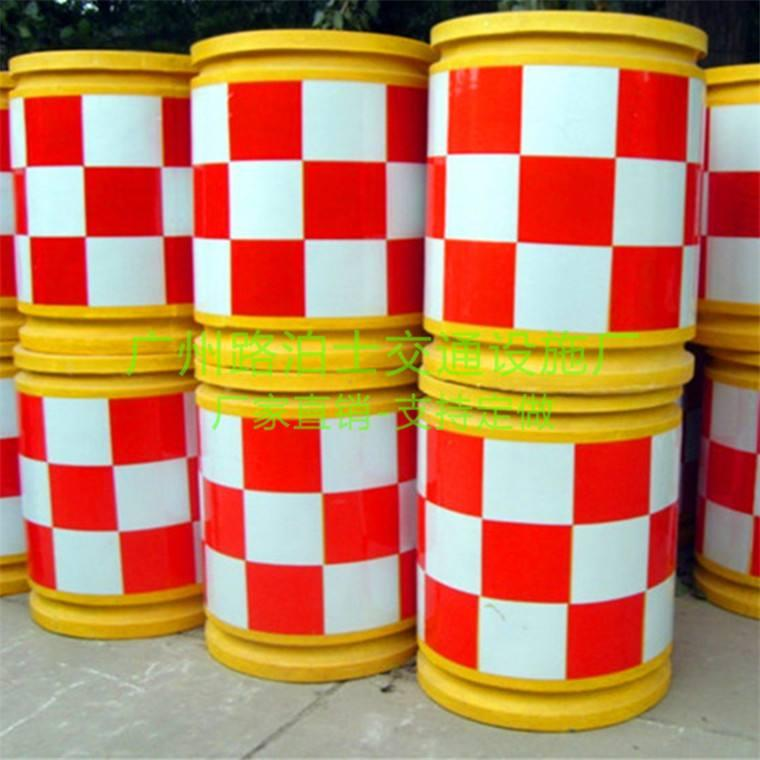sign: (420, 16, 709, 391), (404, 367, 686, 737), (187, 19, 420, 380), (186, 365, 409, 682), (1, 44, 193, 361), (5, 360, 209, 644)
